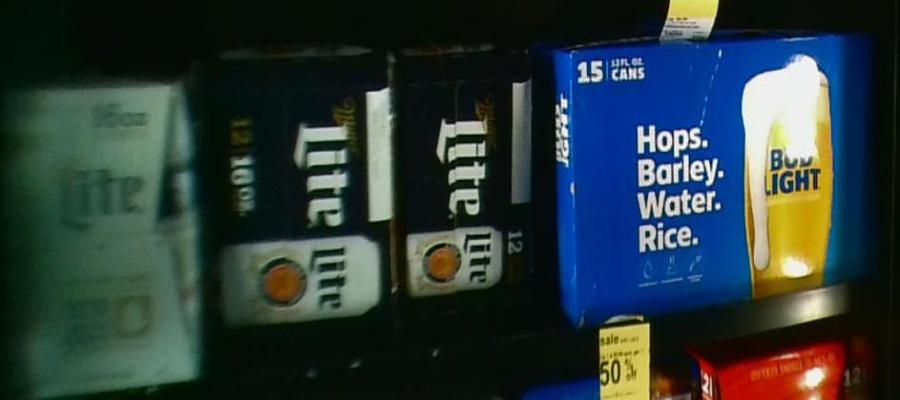bottle: (551, 34, 880, 313), (1, 77, 209, 393), (205, 49, 397, 371), (393, 46, 545, 333)
